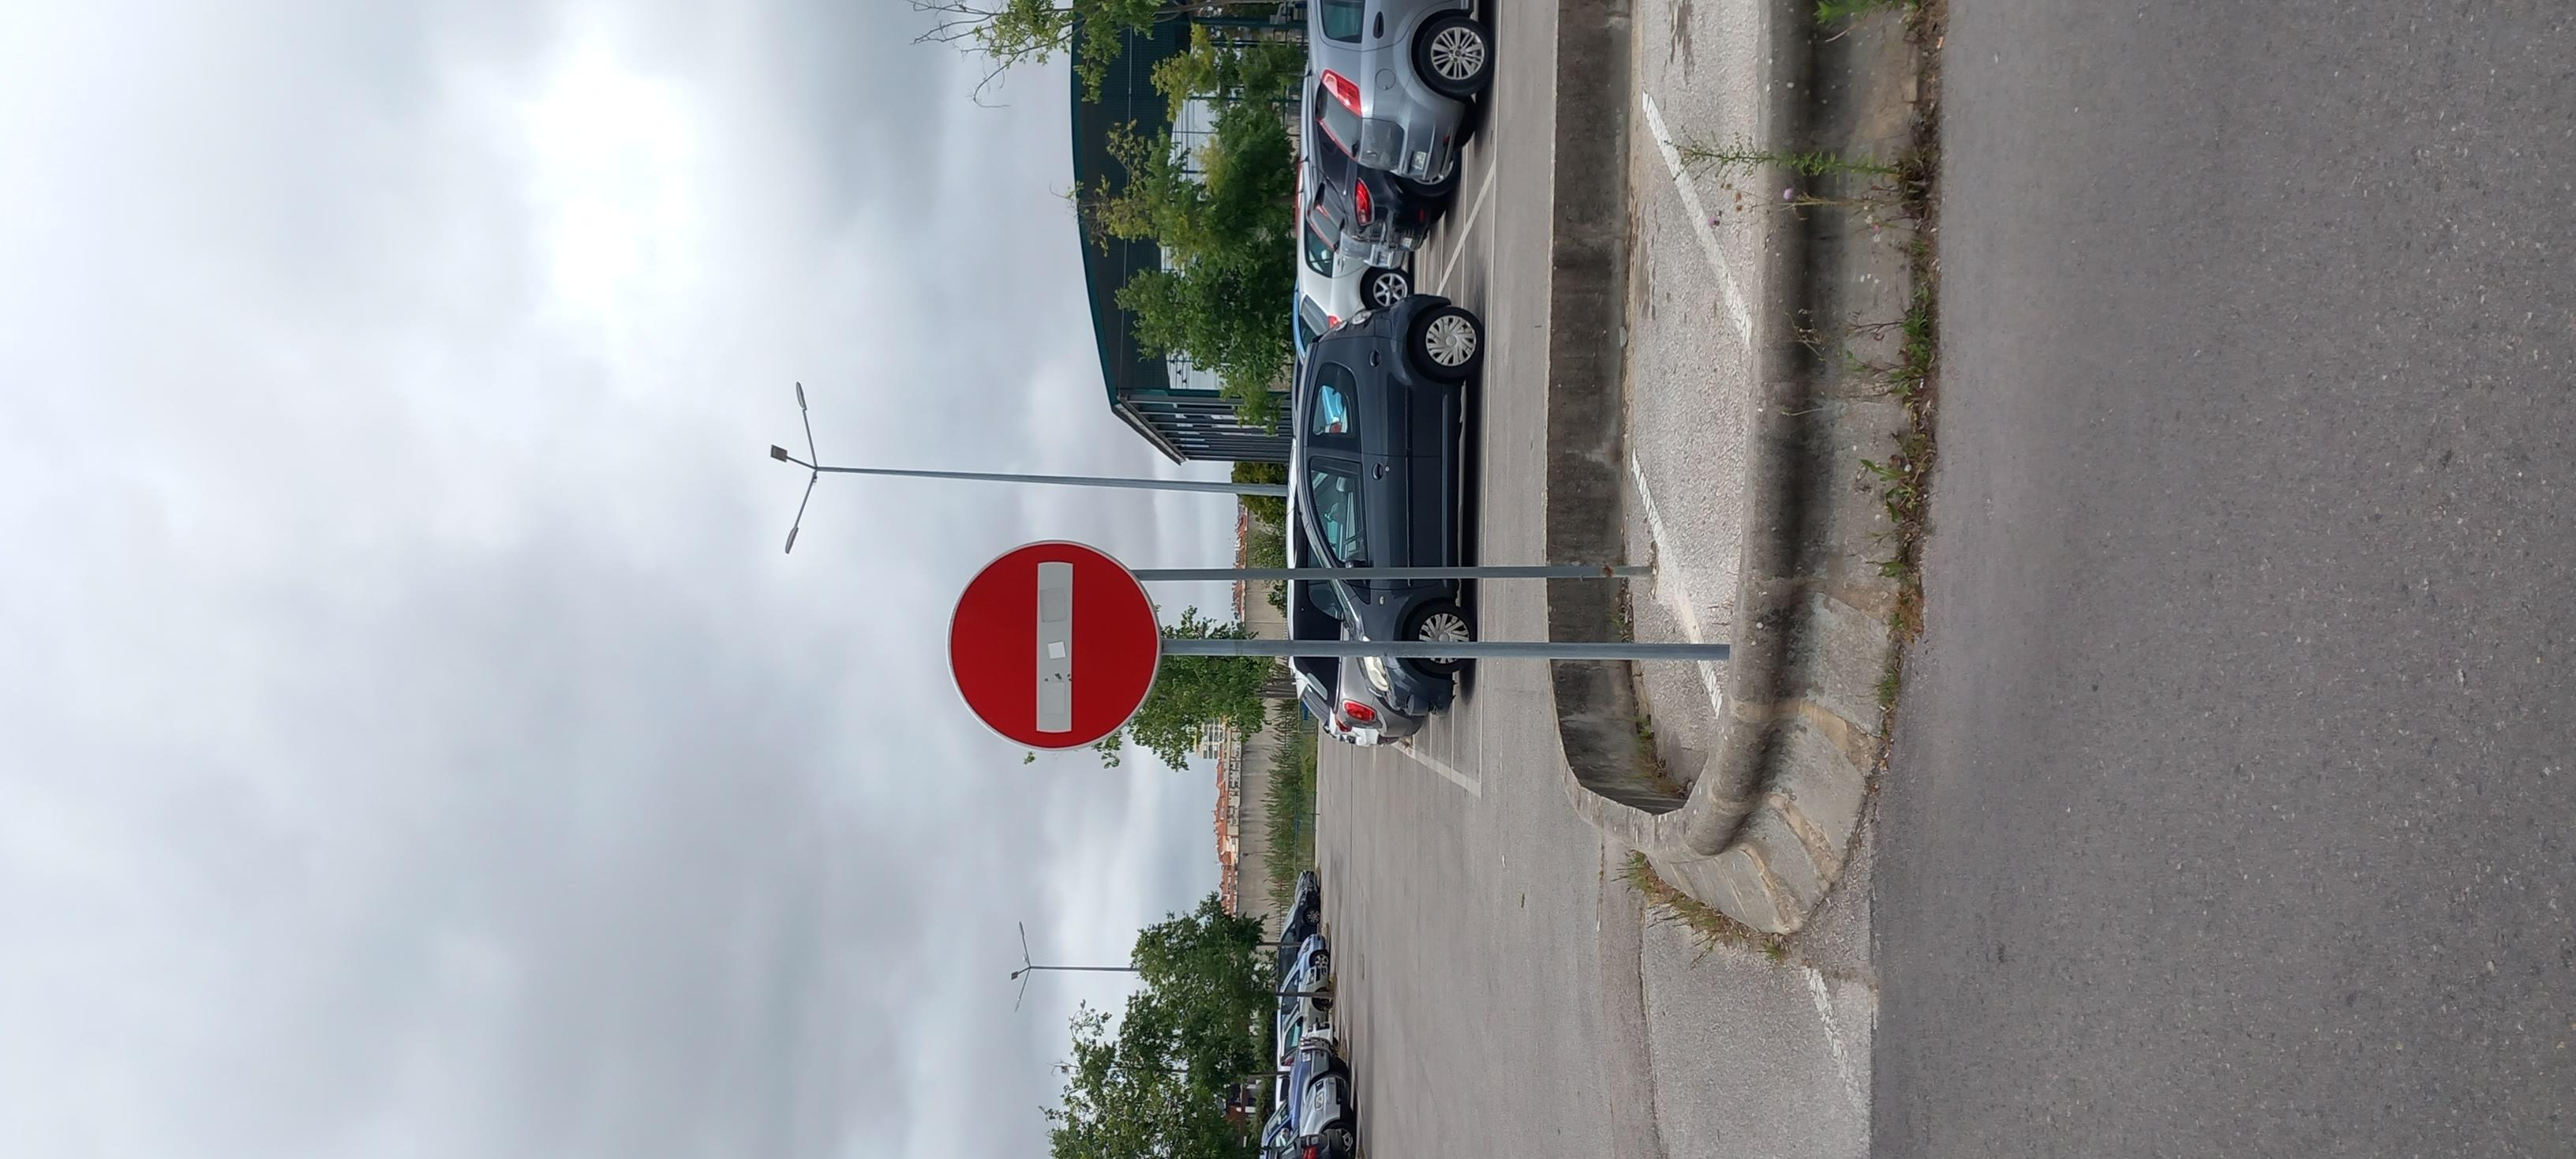Sentido proibido: (930, 426, 1342, 523)
